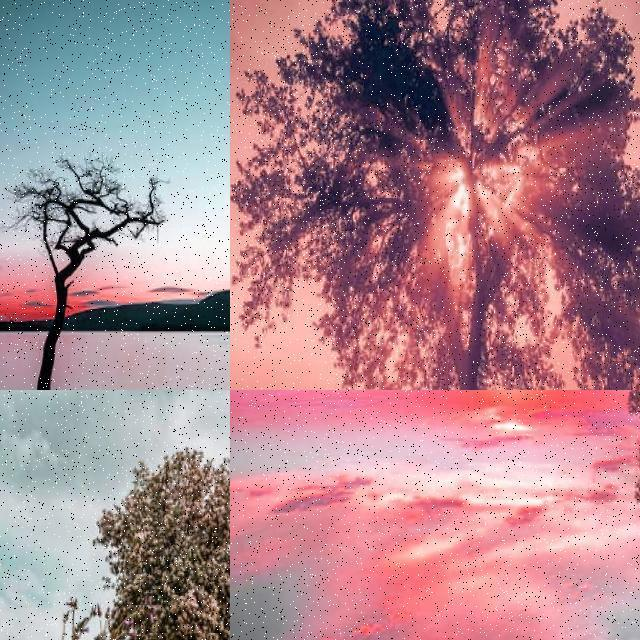tree: (230, 0, 640, 390), (0, 144, 188, 390), (90, 440, 230, 640)
